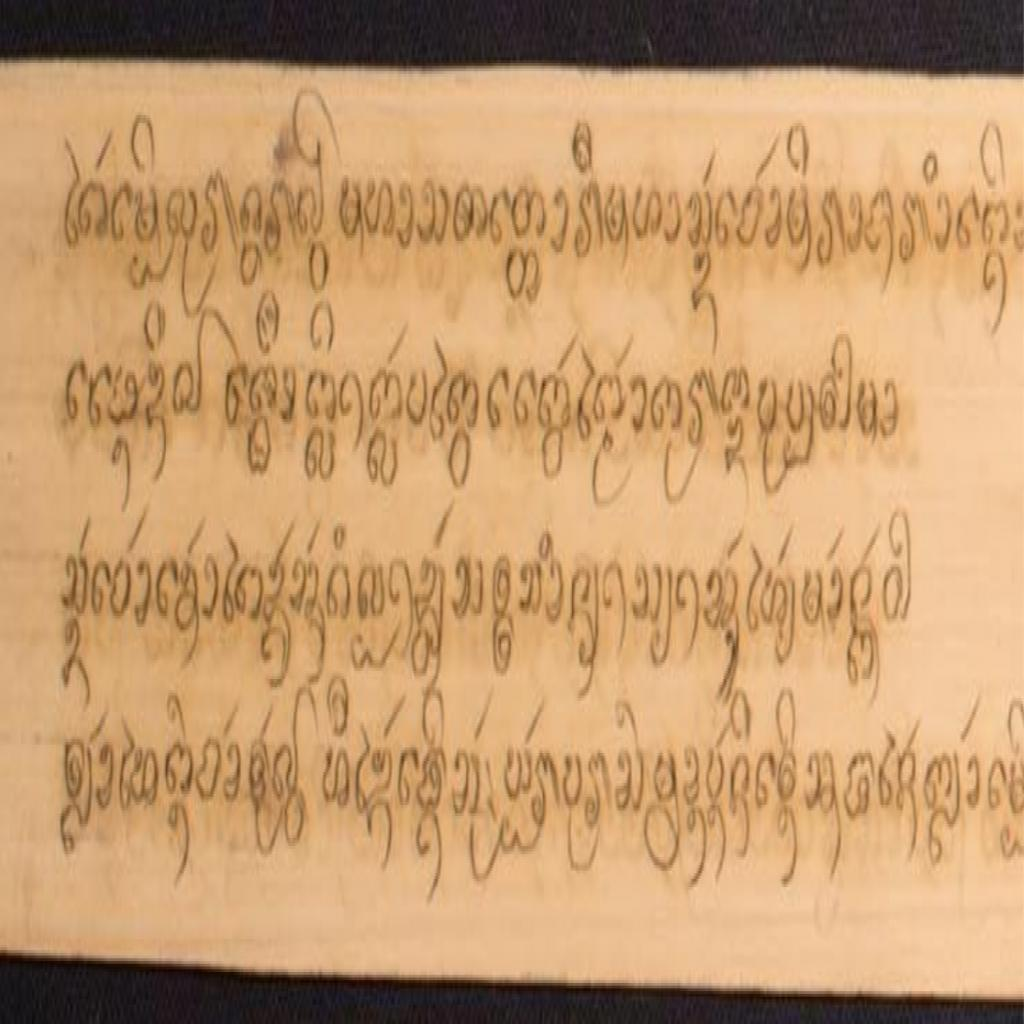LN034: (356, 559, 388, 626)
